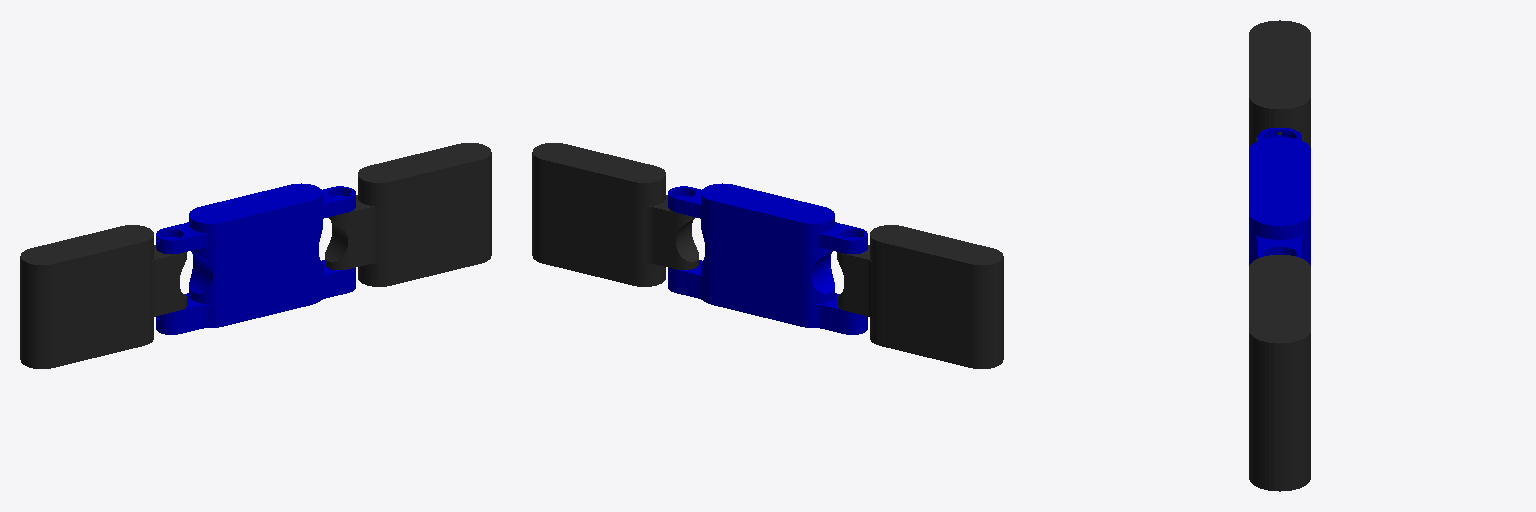
robot.urdf — inertiabot3:
<robot name="inertiabot3" >
    <link name="body">
        <inertial>
            <!--origin rpy="0 0 0" xyz="0.0 0.0 0.034035"/-->
            <origin rpy="0 0 0" xyz="0.0 0.0 0.0"/>
            <mass value="0.2102"/>
            <!--inertia ixx="7.89356e-005" ixy="-2.58573e-009" ixz="7.32601e-008" iyy="0.000214169" iyz="-2.34865e-008" izz="0.000149969"/-->
            <inertia ixx="7.89356e-005" ixy="0" ixz="0" iyy="0.000214169" iyz="0" izz="0.000149969"/>
            <!--inertia ixx="1.0e-004" ixy="0.0" ixz="0.0" iyy="2.0e-004" iyz="0.0" izz="1.0e-004"/-->
        </inertial>
        <visual>
            <origin rpy="0 0 0" xyz="0.0 0.0 0.0"/>
            <geometry name="body_visual">
                <mesh filename="inertiabot3_description/robot_sim_body.dae" scale="0.001 0.001 0.001"/>
                <!--box size="0.04 0.04 0.10"/-->
            </geometry>
            <material name="Blue"/>
        </visual>
        <collision>
            <origin rpy="0 0 0" xyz="0.0 0.0 0.035"/>
            <geometry name="body_collision">
                <box size="0.085 0.030 0.070"/>
            </geometry>
        </collision>
    </link>
    <link name="leg_A">
        <inertial>
            <!--origin rpy="0 0 0" xyz="-0.054388 0.0 0.0342105"/-->
            <origin rpy="0 0 0" xyz="-0.054388 0.0 0.0"/>
            <mass value="0.1202"/>
            <!--inertia ixx="4.41383e-005" ixy="1.2767e-008" ixz="-9.93802e-007" iyy="0.00012073" iyz="-2.0215e-008" izz="8.95086e-005"/-->
            <inertia ixx="4.41383e-005" ixy="0" ixz="0" iyy="0.00012073" iyz="0" izz="8.95086e-005"/>
        </inertial>
        <visual>
            <origin rpy="0 0 0" xyz="-0.054388 0.0 0.0"/>
            <geometry name="leg_A_visual">
                <mesh filename="inertiabot3_description/robot_sim_leg.dae" scale="0.001 0.001 0.001"/>
                <!--box size="0.03 0.03 0.10"/-->
            </geometry>
            <material name="Grey"/>
        </visual>
        <collision>
            <!--origin rpy="0 0 0" xyz="-0.111 0.000 0.035"/-->
            <origin rpy="0 0 0" xyz="-0.054388 0.000 0.035"/>
            <geometry name="leg_A_collision">
                <box size="0.085 0.030 0.070"/>
            </geometry>
        </collision>
    </link>
    <link name="leg_B">
        <inertial>
            <!--origin rpy="0 0 0" xyz="0.054388 0.0 0.0342105"/-->
            <origin rpy="0 0 0" xyz="0.054388 0.0 0.0"/>
            <mass value="0.1202"/>
            <!--inertia ixx="4.41383e-005" ixy="1.2767e-008" ixz="9.93802e-007" iyy="0.00012073" iyz="2.0215e-008" izz="8.95086e-005"/-->
            <inertia ixx="4.41383e-005" ixy="0" ixz="0" iyy="0.00012073" iyz="0" izz="8.95086e-005"/>
        </inertial>
        <visual>
            <origin rpy="0 0 3.14159265359" xyz="0.054388 0.0 0.0"/>
            <geometry name="leg_B_visual">
                <mesh filename="inertiabot3_description/robot_sim_leg.dae" scale="0.001 0.001 0.001"/>
                <!--box size="0.03 0.03 0.10"/-->
            </geometry>
            <material name="Grey"/>
        </visual>
        <collision>
            <!--origin rpy="0 0 0" xyz="0.111 0.000 0.035"/-->
            <origin rpy="0 0 0" xyz="0.054388 0.000 0.035"/>
            <geometry name="leg_B_collision">
                <box size="0.085 0.030 0.070"/>
            </geometry>
        </collision>
    </link>

    <joint name="HipA" type="revolute">
        <parent link="body"/>
        <child link="leg_A"/>
        <origin rpy="0.0 0.0 0.0" xyz="-0.056 0.0 0.0"/>
        <axis xyz="0 0 1"/>
        <!--Large joint limit-->
        <limit effort="10" lower="-1.57079632679" upper="1.57079632679" velocity="1.0"/>
        <!--Small joint limit-->
        <!--limit effort="10" lower="0" upper="1.57079632679" velocity="1.0"/-->
        <dynamics damping="10.5"/>
    </joint>
    <joint name="HipB" type="revolute">
        <parent link="body"/>
        <child link="leg_B"/>
        <origin rpy="0.0 0.0 0.0" xyz="0.056 0.0 0.0"/>
        <axis xyz="0 0 1"/>
        <!--Large joint limit-->
        <limit effort="10" lower="-1.57079632679" upper="1.57079632679" velocity="1.0"/>
        <!--Small joint limit-->
        <!--limit effort="10" lower="-1.57079632679" upper="0" velocity="1.0"/-->
        <dynamics damping="10.5"/>
    </joint>
    
    
    <material name="Blue">
        <color rgba="0.0 0.0 0.8 1.0"/>
    </material>
    <material name="Green">
        <color rgba="0.0 0.8 0.0 1.0"/>
    </material>
    <material name="Grey">
        <color rgba="0.2 0.2 0.2 1.0"/>
    </material>
    <material name="LightGrey">
        <color rgba="0.6 0.6 0.6 1.0"/>
    </material>
    <material name="Red">
        <color rgba="0.8 0.0 0.0 1.0"/>
    </material>
    <material name="White">
        <color rgba="1.0 1.0 1.0 1.0"/>
    </material>
</robot>

--- What the picture shows (computed from the rendered views, not written in the file) ---
The picture shows the robot from 3 angles, left to right: view 1: azimuth 30°, elevation 25°; view 2: azimuth 150°, elevation 25°; view 3: azimuth 270°, elevation 25°; orthographic projection.
Robot: inertiabot3 — 3 links, 2 joints (2 revolute); root link body; default pose: every joint at zero.
Links seen in each view (by area): view 1: body, leg_A, leg_B; view 2: body, leg_A, leg_B; view 3: leg_B, body, leg_A.
Link boxes in pixels (x1,y1,x2,y2): body: [156, 183, 355, 334]; leg_A: [20, 225, 186, 368]; leg_B: [325, 143, 491, 286]; body: [668, 183, 867, 334]; leg_A: [837, 225, 1003, 368]; leg_B: [532, 143, 698, 286]; leg_B: [1249, 255, 1310, 491]; body: [1249, 128, 1310, 265]; leg_A: [1249, 20, 1310, 147].
Bounding box of the posed robot: 0.309 × 0.025 × 0.0662 m (x, y, z).
Meshes: 2 distinct files referenced, 3 mesh visuals loaded (2 Collada DAE).